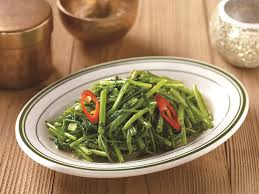water_spinach: (74, 86, 182, 152)
